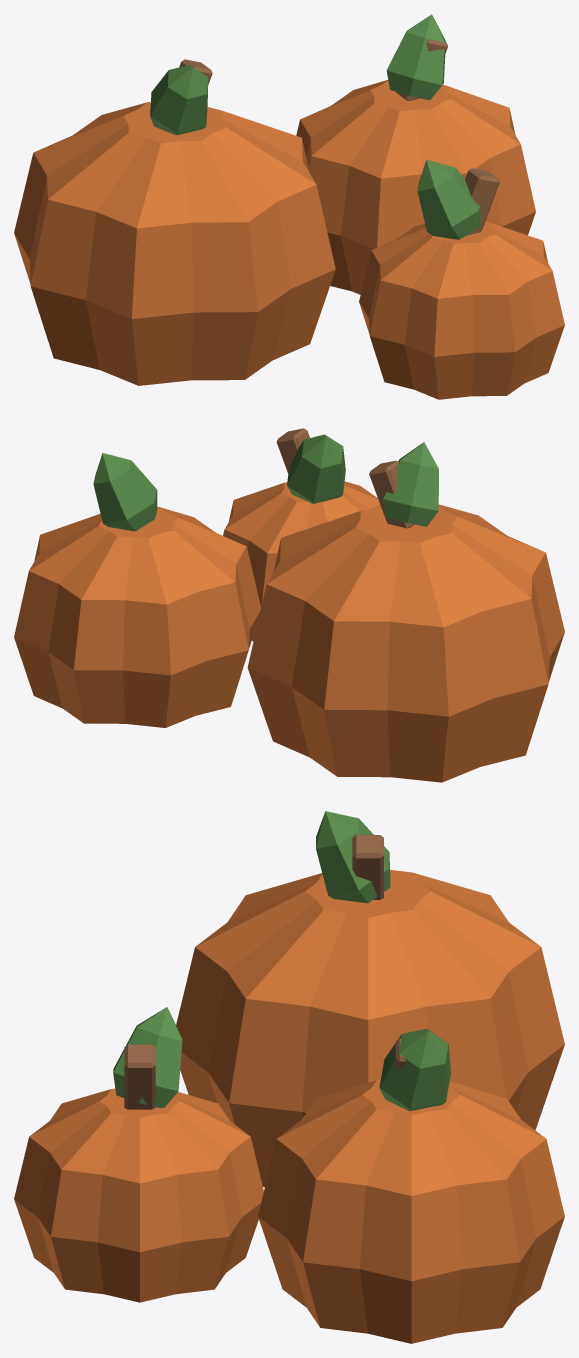
File: 08_Pumpkin_Cluster.glb
The picture shows the model from 3 angles, top to bottom: view 1: azimuth 30°, elevation 25°; view 2: azimuth 150°, elevation 25°; view 3: azimuth 270°, elevation 25°; orthographic projection. The views are drawn at different scales.
Visible parts, largest first — view 1: 08_Pumpkin_Cluster__Body; view 2: 08_Pumpkin_Cluster__Body; view 3: 08_Pumpkin_Cluster__Body.
Boxes of the visible parts, left/top/right/bottom form: 08_Pumpkin_Cluster__Body: left=14, top=14, right=564, bottom=399; 08_Pumpkin_Cluster__Body: left=14, top=428, right=564, bottom=782; 08_Pumpkin_Cluster__Body: left=14, top=811, right=564, bottom=1343.
Bounding box in the file's own units: 1.77 × 1.01 × 1.4.
1 material, 1 textured.
